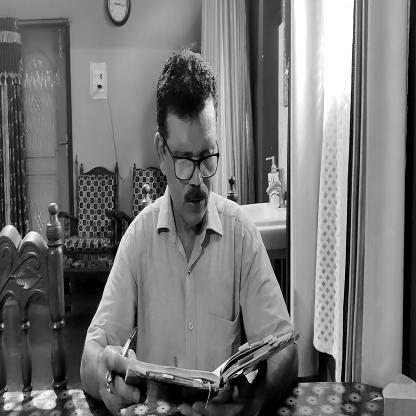Normal: (154, 53, 218, 233)
